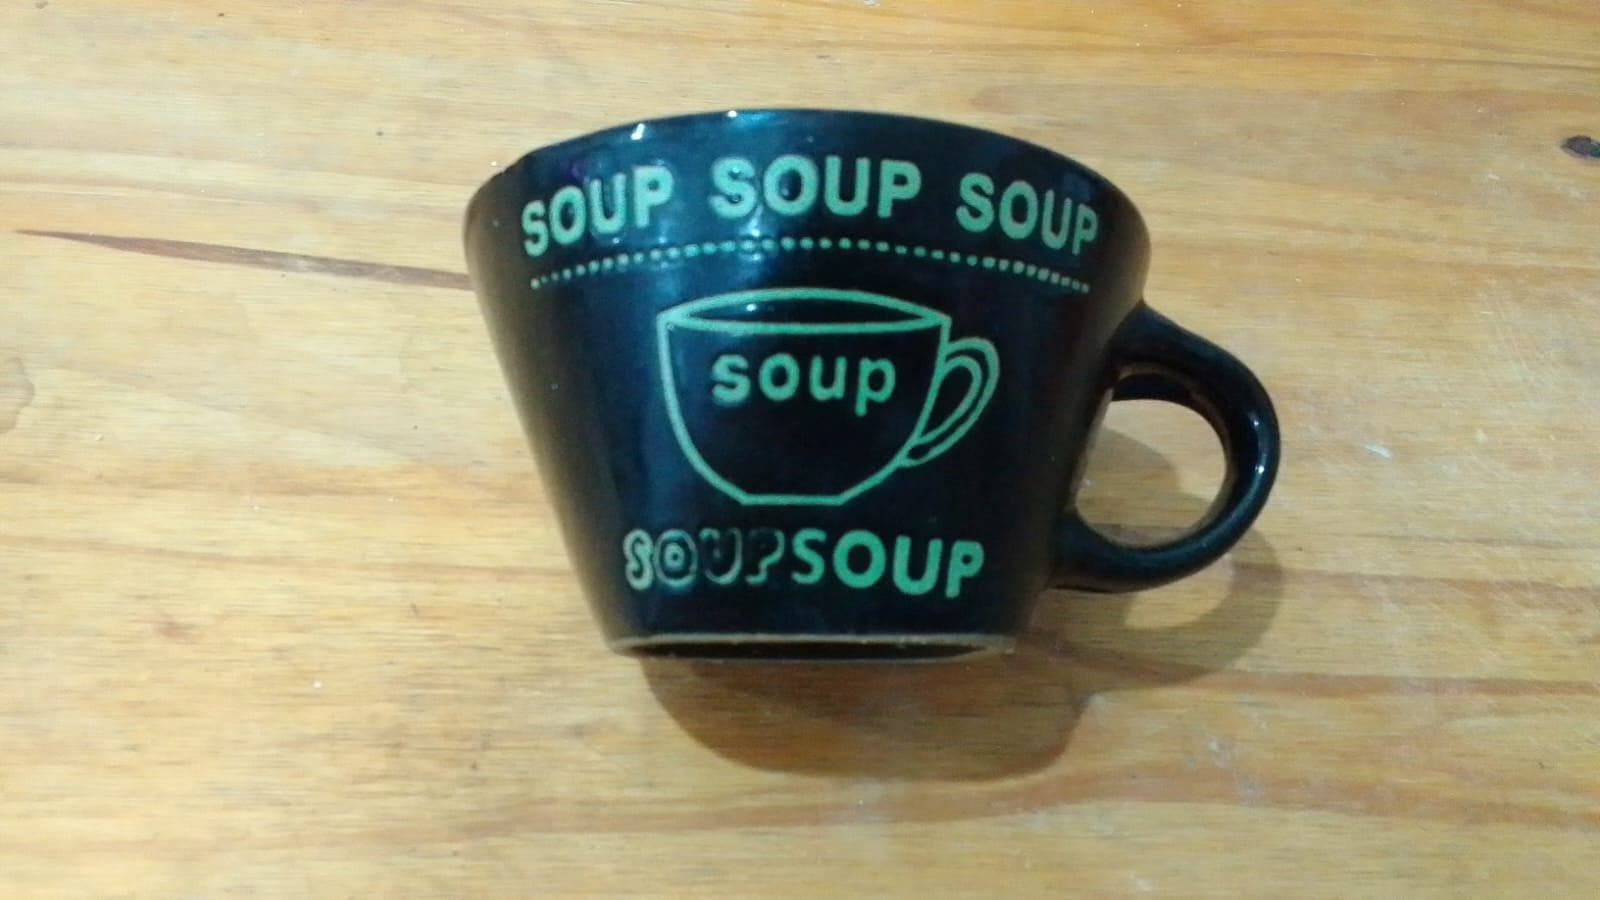dog: (471, 124, 1163, 662)
